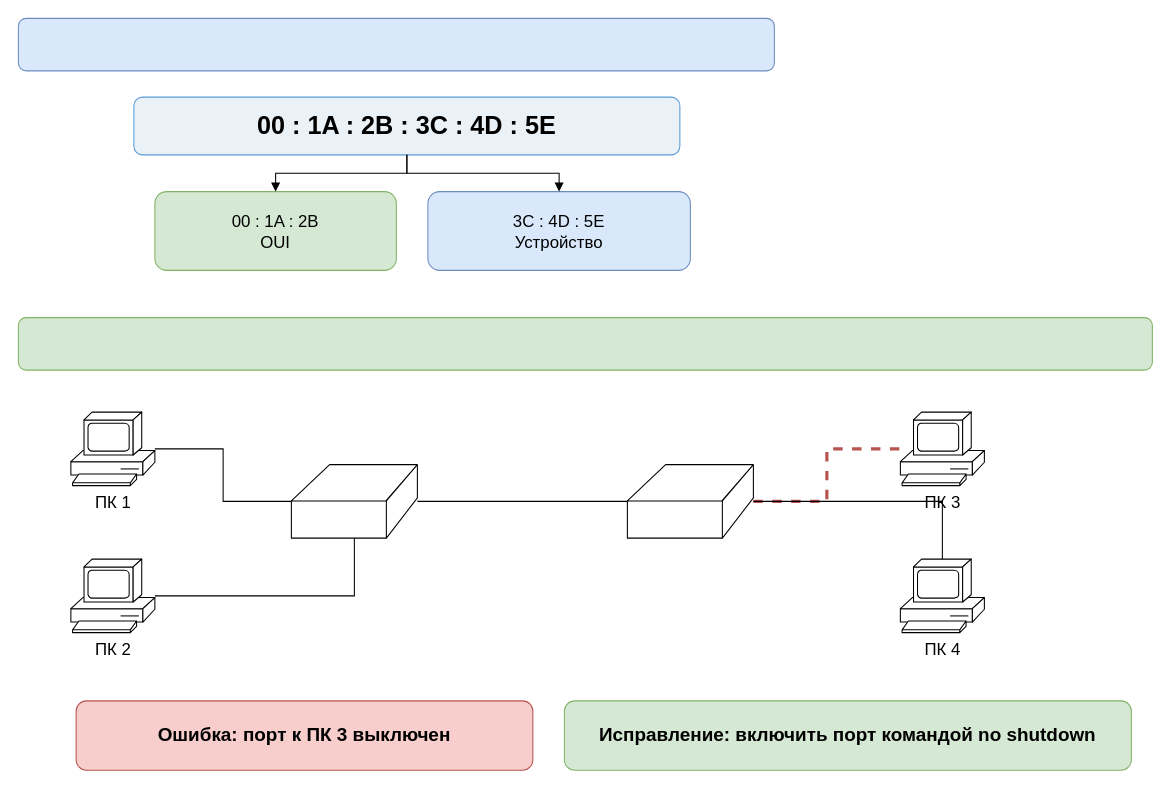
The diagram is 1171 pixels wide and 789 high, and some of its shapes have lost their labels. The centre of each missing label's shape, as x and y in pixels:
MAC-адрес (48 бит / 6 байт): the point at 395,44
Коммутатор 1: the point at 353,501
Коммутатор 2: the point at 689,501
Соединение ПК через коммутаторы: the point at 584,343
